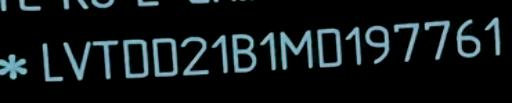letter: (275, 28, 315, 75), (118, 30, 150, 83), (310, 26, 346, 73), (88, 34, 122, 83), (388, 20, 424, 65), (57, 34, 91, 81), (226, 33, 258, 78), (150, 34, 180, 81), (180, 34, 210, 81), (420, 18, 452, 61), (34, 38, 64, 83), (204, 30, 230, 81), (454, 15, 482, 60), (364, 23, 390, 68), (483, 14, 507, 61), (255, 29, 279, 76), (342, 24, 366, 69)
